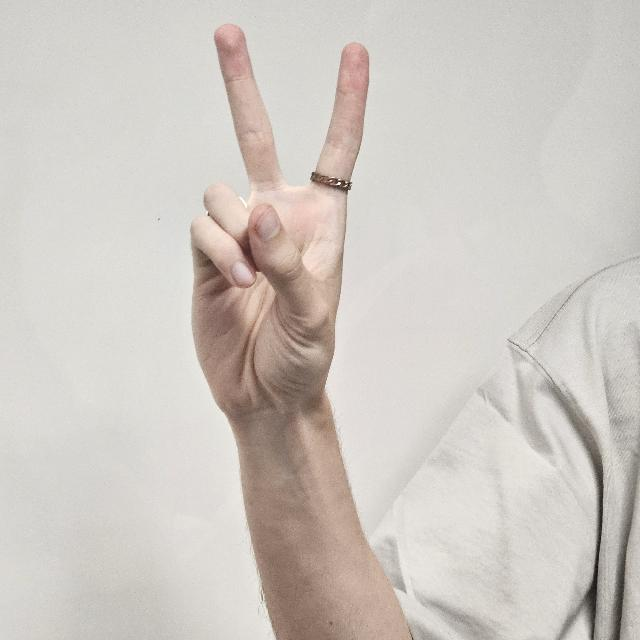Triangulo: (173, 19, 387, 488)
